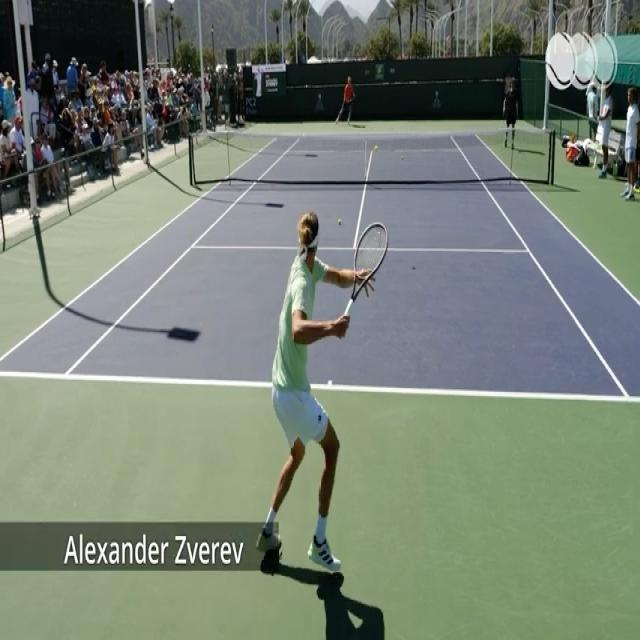forehand-ready: (270, 211, 387, 574)
